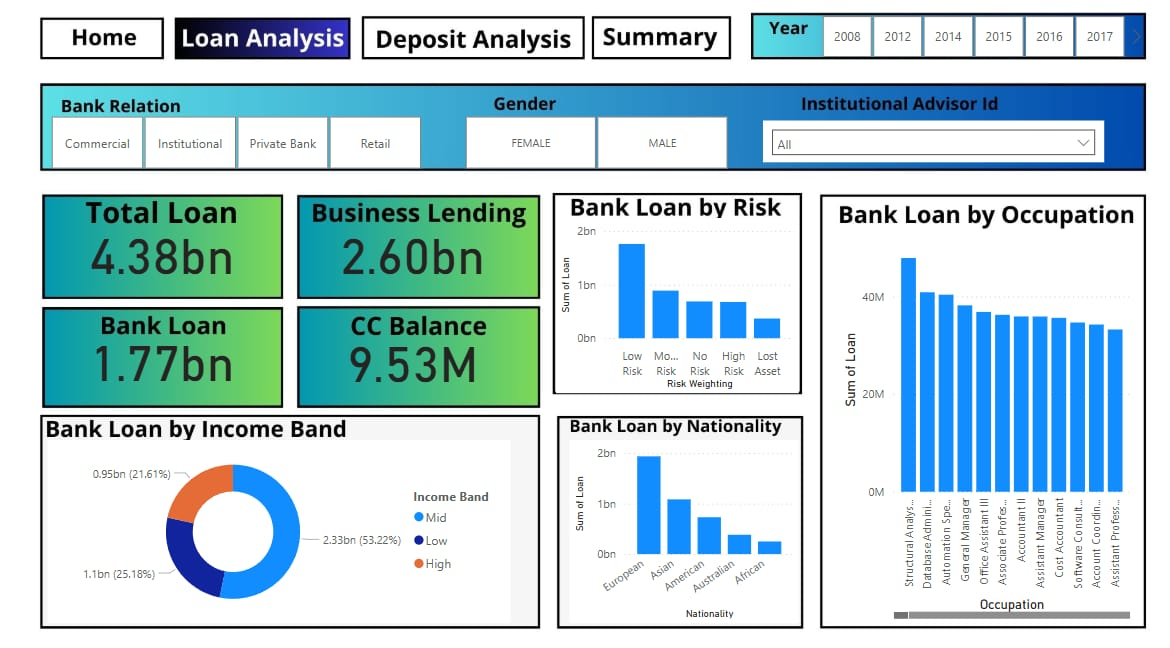

The page's visual inventory and layout, read from the dashboard file:
{"tool":"powerbi","page":{"name":"Loan Analysis","canvas":[1280,720],"ordinal":1},"visuals":[{"type":"card","fields":{"Values":["Sum(Banking.Loan)"]},"box":[75,221.7,211.7,115],"z":0},{"type":"card","fields":{"Values":["Sum(Banking.Business Lending)"]},"box":[346.7,221.7,211.7,115],"z":1000},{"type":"card","fields":{"Values":["Sum(Banking.Bank Loans)"]},"box":[75,336.7,211.7,115],"z":2000},{"type":"card","fields":{"Values":["Sum(Banking.Credit Card Balance)"]},"box":[346.7,338.3,211.7,115],"z":3000},{"type":"slicer","fields":{"Values":["Banking.Joined Bank.Variation.Date Hierarchy.Year"]},"box":[871.7,18.3,376.7,58.3],"z":4000},{"type":"slicer","fields":{"Values":["Banking.BRId"]},"box":[35,126.7,450,70],"z":5000},{"type":"slicer","fields":{"Values":["Banking.GenderId"]},"box":[485,126.7,333.3,70],"z":6000},{"type":"slicer","fields":{"Values":["Banking.IAId"]},"box":[833.3,138.3,370,45],"z":7000},{"type":"columnChart","fields":{"Category":["Banking.Risk Weighting"],"Y":["Sum(Banking.Loan)"]},"box":[608.3,243.3,263.3,190],"z":8000},{"type":"columnChart","fields":{"Y":["Sum(Banking.Loan)"],"Category":["Banking.Nationality"]},"box":[623.3,485,248.3,198.3],"z":9000},{"type":"columnChart","fields":{"Y":["Sum(Banking.Loan)"],"Category":["Banking.Occupation"]},"box":[913.3,261.7,321.7,421.7],"z":10000},{"type":"donutChart","fields":{"Category":["Banking.Income Band"],"Y":["Sum(Banking.Loan)"]},"box":[56.7,485,501.7,198.3],"z":11000},{"type":"actionButton","box":[56.7,28.3,118.3,40],"z":12000},{"type":"actionButton","box":[201.7,28.3,178.3,40],"z":13000},{"type":"actionButton","box":[405,28.3,235,40],"z":14000},{"type":"actionButton","box":[651.7,28.3,143.3,40],"z":15000}]}

Visuals, with their boxes in screenshot pixels (x1, y1, x2, y2), scaled from the page's 1280x720 canvas onto the 1170x648 screenshot:
card - Sum(Banking.Loan): left=69, top=200, right=262, bottom=303
card - Sum(Banking.Business Lending): left=317, top=200, right=510, bottom=303
card - Sum(Banking.Bank Loans): left=69, top=303, right=262, bottom=407
card - Sum(Banking.Credit Card Balance): left=317, top=304, right=510, bottom=408
slicer - Banking.Joined Bank.Variation.Date Hierarchy.Year: left=797, top=16, right=1141, bottom=69
slicer - Banking.BRId: left=32, top=114, right=443, bottom=177
slicer - Banking.GenderId: left=443, top=114, right=748, bottom=177
slicer - Banking.IAId: left=762, top=124, right=1100, bottom=165
columnChart - Banking.Risk Weighting x Sum(Banking.Loan): left=556, top=219, right=797, bottom=390
columnChart - Sum(Banking.Loan) x Banking.Nationality: left=570, top=436, right=797, bottom=615
columnChart - Sum(Banking.Loan) x Banking.Occupation: left=835, top=236, right=1129, bottom=615
donutChart - Banking.Income Band x Sum(Banking.Loan): left=52, top=436, right=510, bottom=615
actionButton: left=52, top=25, right=160, bottom=61
actionButton: left=184, top=25, right=347, bottom=61
actionButton: left=370, top=25, right=585, bottom=61
actionButton: left=596, top=25, right=727, bottom=61
